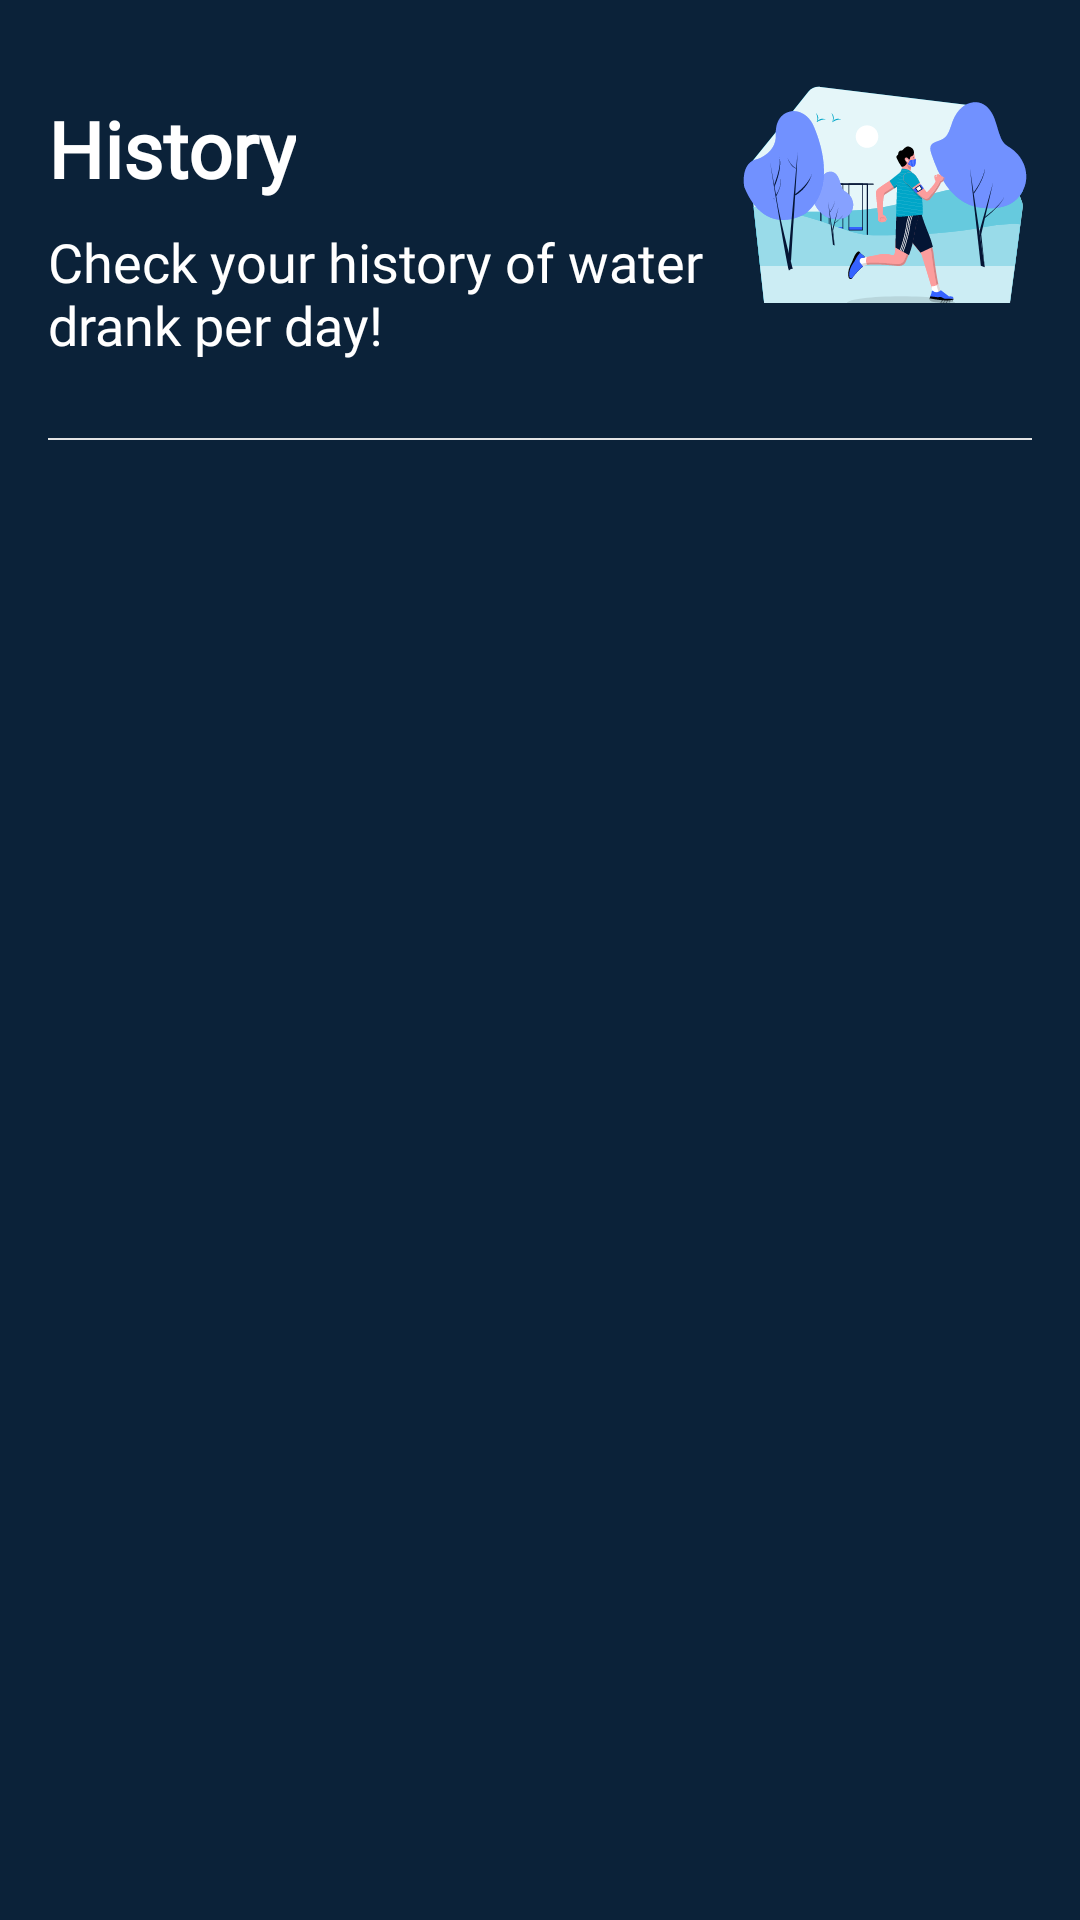

Named icons in this screenshot (1080 × 1920) and their centers, (x=x, y=y):
jogging: (x=858, y=194)
